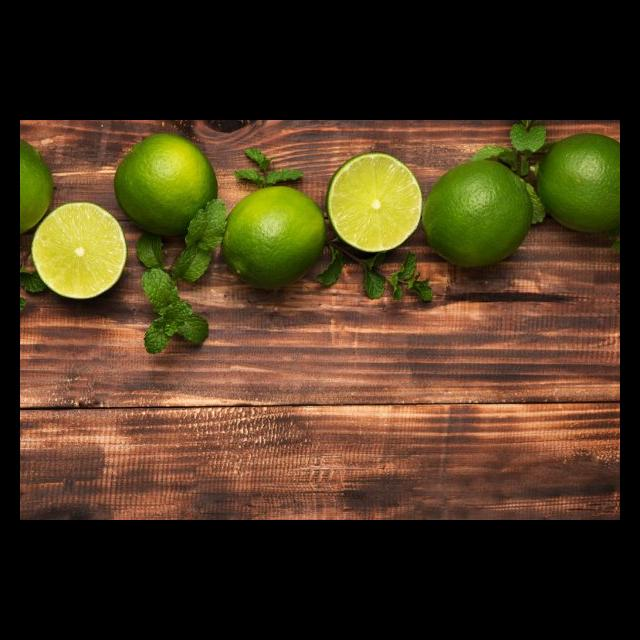lime: (418, 153, 538, 275), (216, 179, 330, 299), (109, 128, 224, 242), (532, 127, 620, 245), (20, 129, 56, 245)
